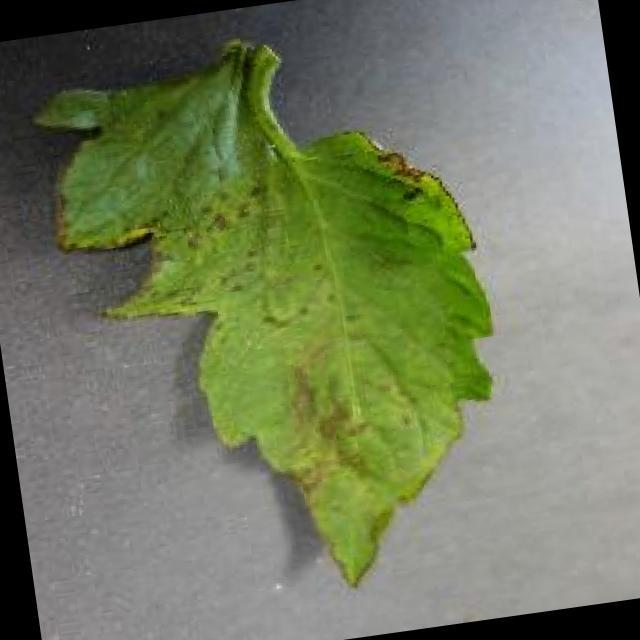Tomato bacterial spot leaf: (18, 22, 532, 633)
